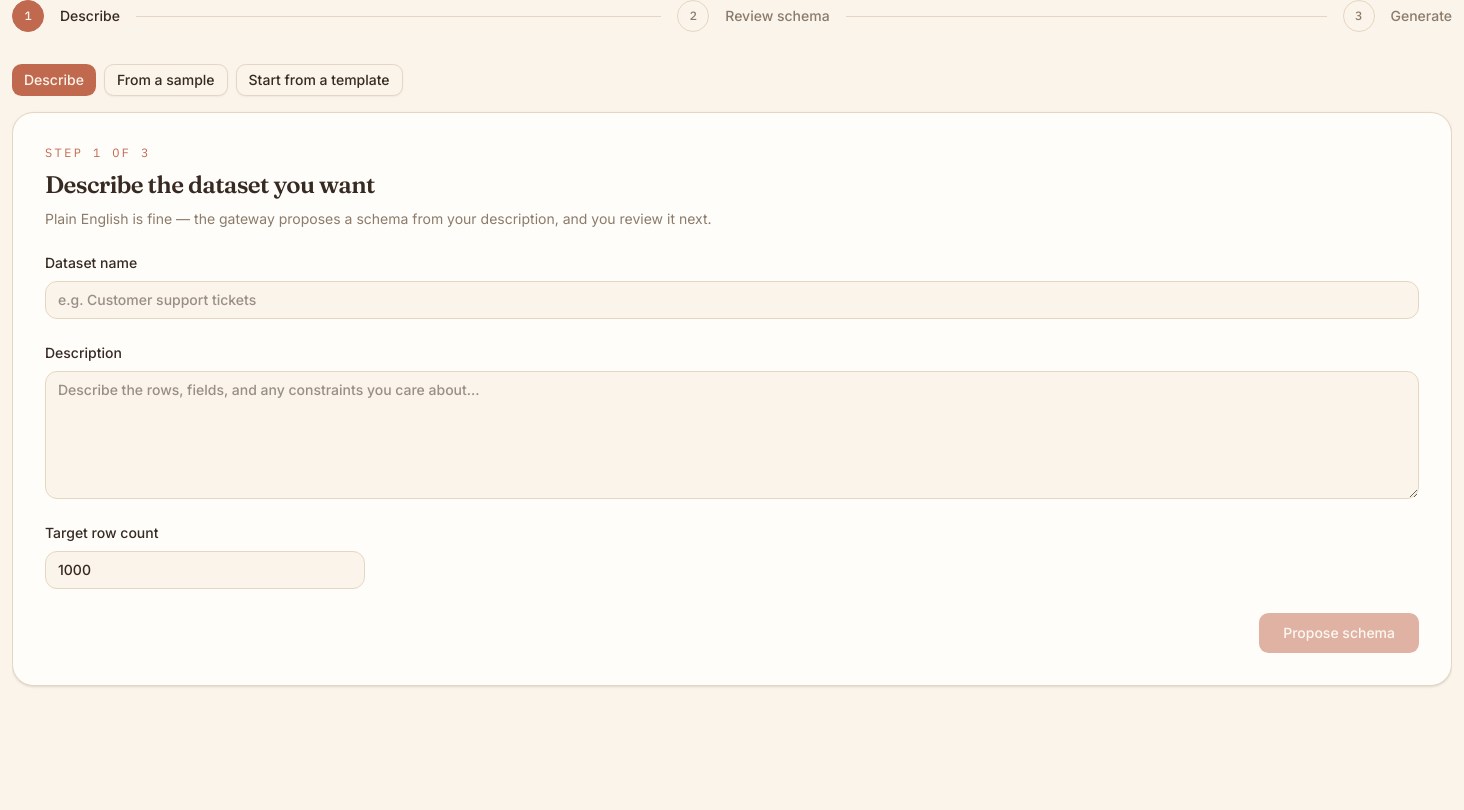
Test: create-from-description wizard › supports going back from review to describe without losing the proposal
Type "Support tickets" into the field labelled "Dataset name" at (732, 300), box [45,281,1419,319]
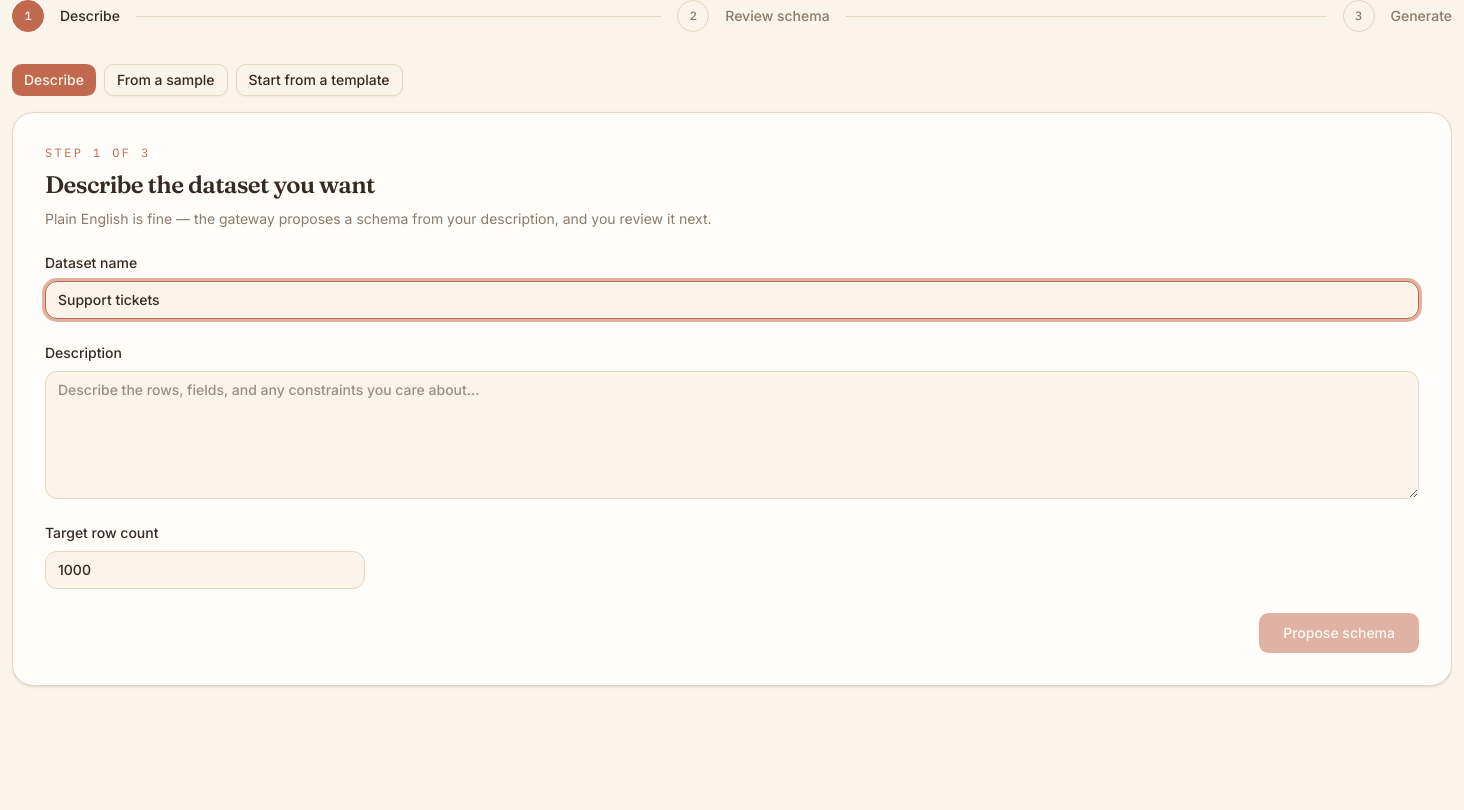
Type "Customer support tickets with a priority and a resolved flag" into the text box labelled "Description" at (732, 435), box [45,371,1419,499]
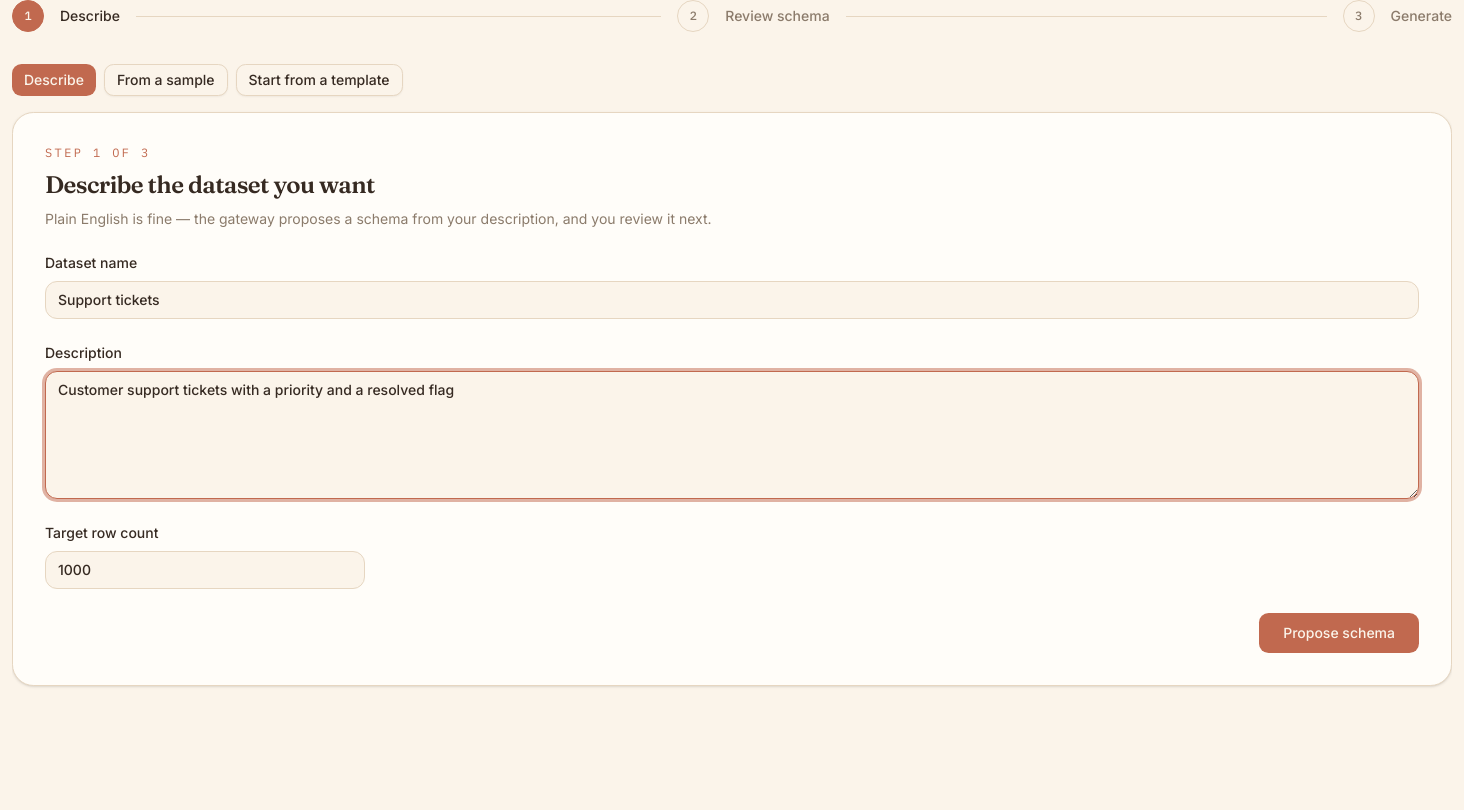
Replace the text in the number field labelled "Target row count" with "500" at (205, 570), box [45,551,365,589]
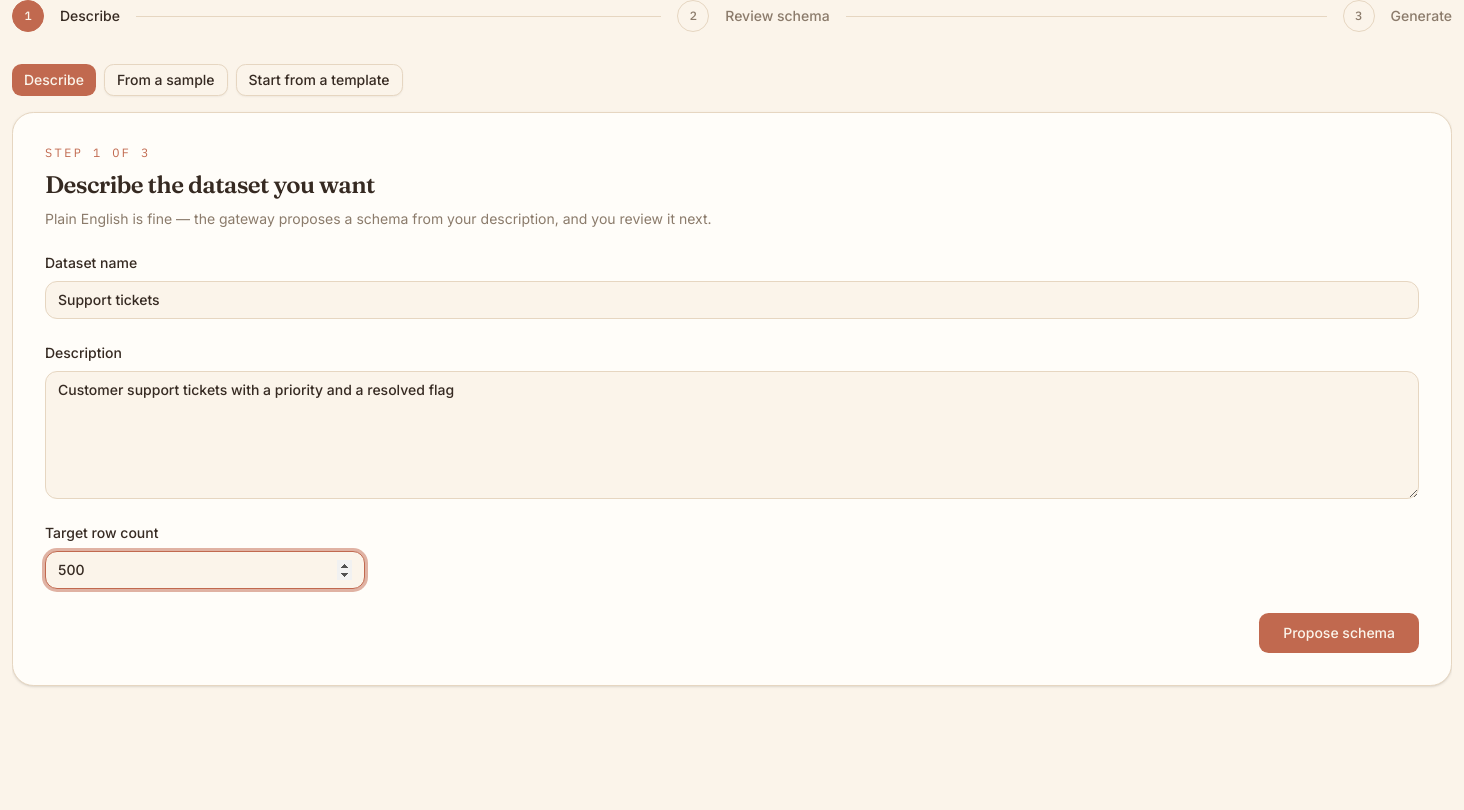
Click the button "Propose schema" at (1339, 633), box [1259,613,1419,653]
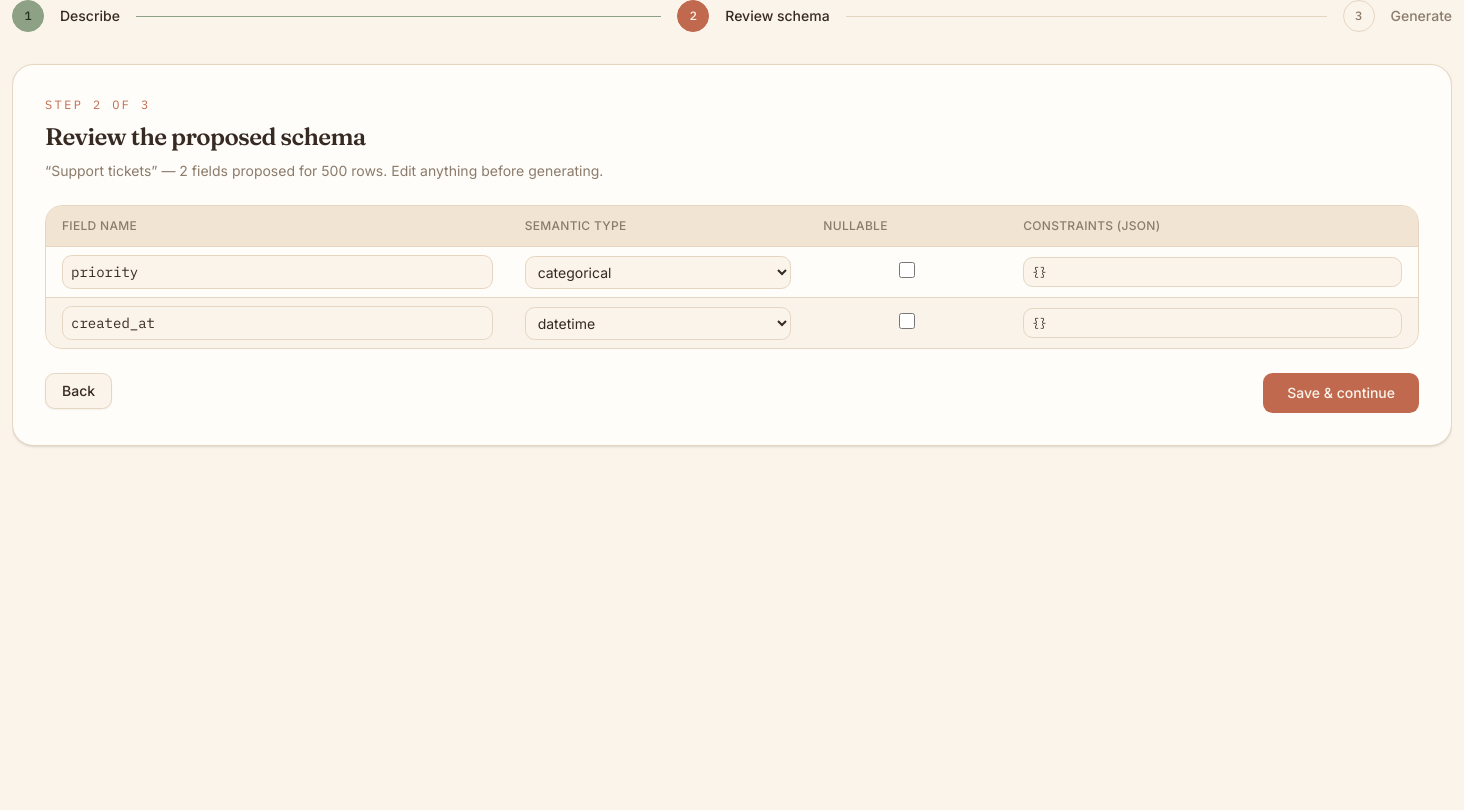
Result: the heading "Review the proposed schema" is shown at [45,122,366,151]
Click the button "Back" at (79, 391), box [45,373,112,409]
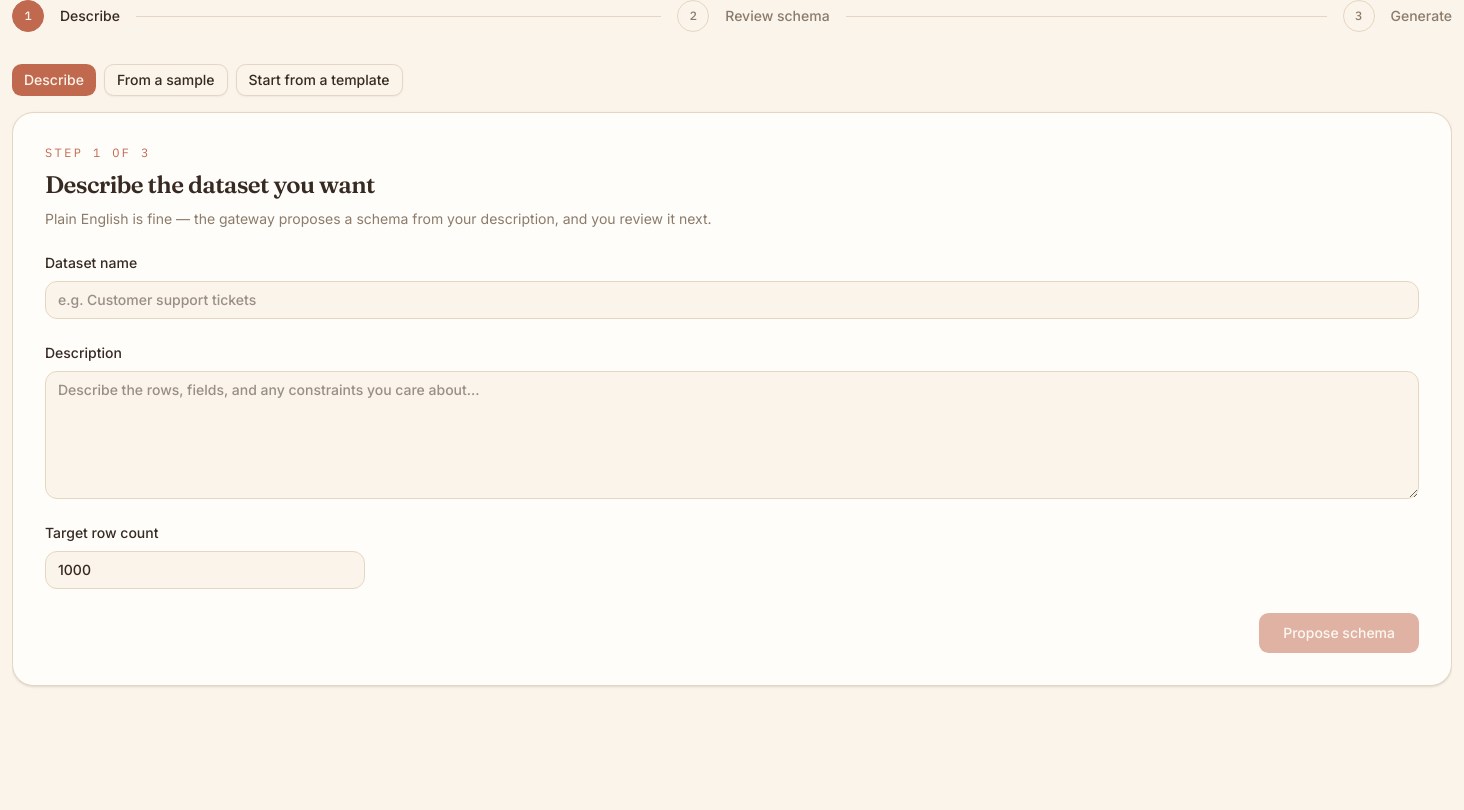
Result: the heading "Describe the dataset you want" is shown at [45,170,375,199]
